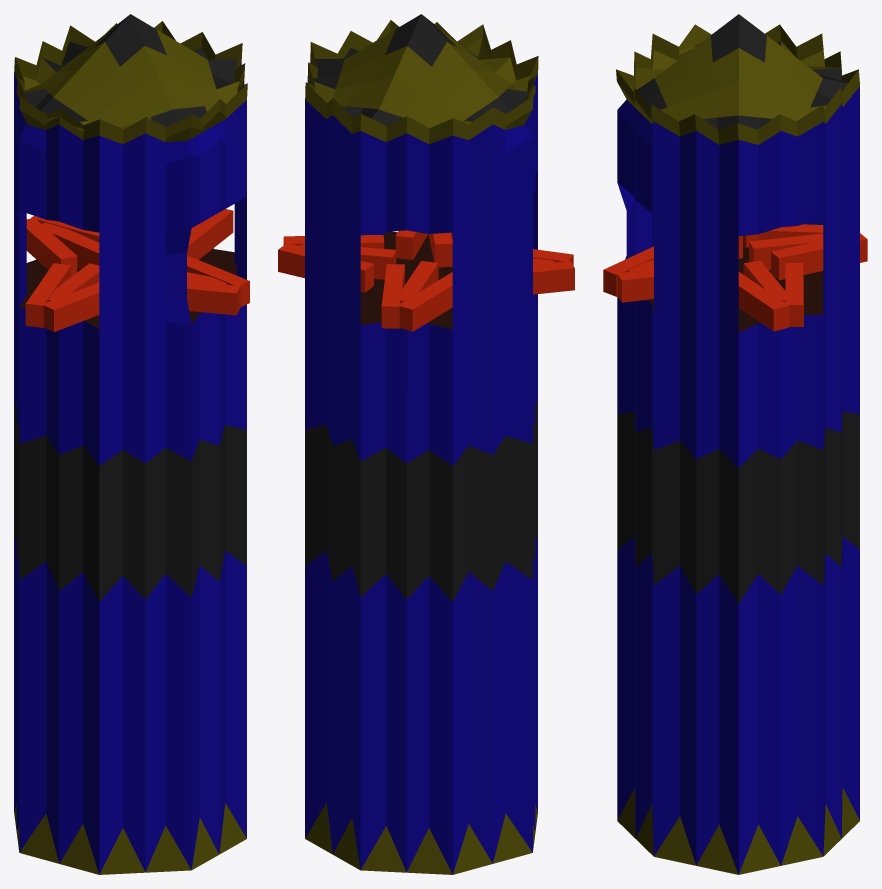
The model's file is ballistictower.obj.
3 views of the same model, side by side, from view 1: azimuth 30°, elevation 25°; view 2: azimuth 150°, elevation 25°; view 3: azimuth 270°, elevation 25° (orthographic).
Visible parts, largest first — view 1: Cube, Cube.011, Cube.007, Cube.005, Cube.001, Cube.010, Cube.006, Cube.008, Cube.012; view 2: Cube, Cube.005, Cube.010, Cube.004, Cube.002, Cube.006, Cube.003, Cube.008, Cube.009; view 3: Cube, Cube.001, Cube.004, Cube.002, Cube.008, Cube.006, Cube.007, Cube.003, Cube.005.
Boxes of the visible parts, x1,y1,x2,y2 form: Cube: (14, 14, 247, 874); Cube.011: (43, 282, 99, 331); Cube.007: (187, 281, 240, 315); Cube.005: (26, 218, 77, 276); Cube.001: (187, 209, 233, 259); Cube.010: (25, 263, 70, 327); Cube.006: (42, 222, 99, 268); Cube.008: (187, 255, 249, 306); Cube.012: (48, 263, 99, 301); Cube: (305, 14, 538, 874); Cube.005: (398, 272, 452, 331); Cube.010: (533, 260, 574, 294); Cube.004: (381, 264, 404, 328); Cube.002: (278, 244, 373, 292); Cube.006: (400, 261, 438, 303); Cube.003: (300, 244, 396, 279); Cube.008: (395, 230, 427, 259); Cube.009: (428, 232, 452, 267); Cube: (616, 14, 859, 874); Cube.001: (738, 272, 788, 331); Cube.004: (771, 233, 867, 280); Cube.002: (785, 263, 803, 326); Cube.008: (617, 269, 653, 302); Cube.006: (749, 233, 823, 269); Cube.007: (603, 246, 653, 296); Cube.003: (743, 260, 785, 302); Cube.005: (758, 224, 823, 240).
Bounding box in the file's own units: 0.4738 × 1.47 × 0.4376.
